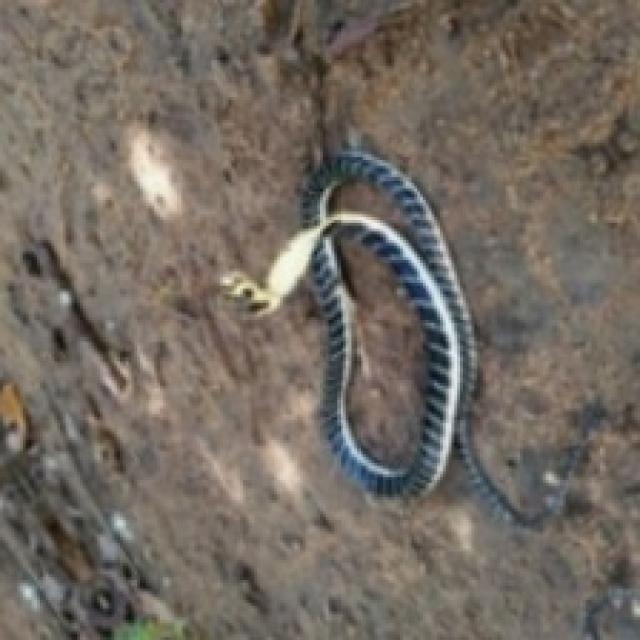king cobra: (220, 149, 594, 523)
